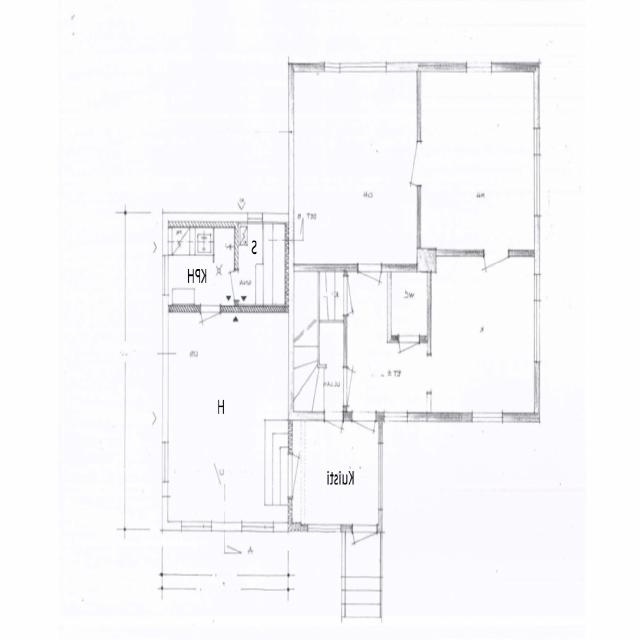door: (289, 452, 319, 498), (392, 141, 421, 185), (484, 250, 509, 300), (353, 524, 377, 576), (352, 412, 375, 461), (359, 264, 381, 312), (344, 276, 369, 315), (399, 336, 420, 380), (344, 369, 368, 406), (201, 304, 220, 348), (324, 412, 343, 453), (216, 268, 239, 300)
